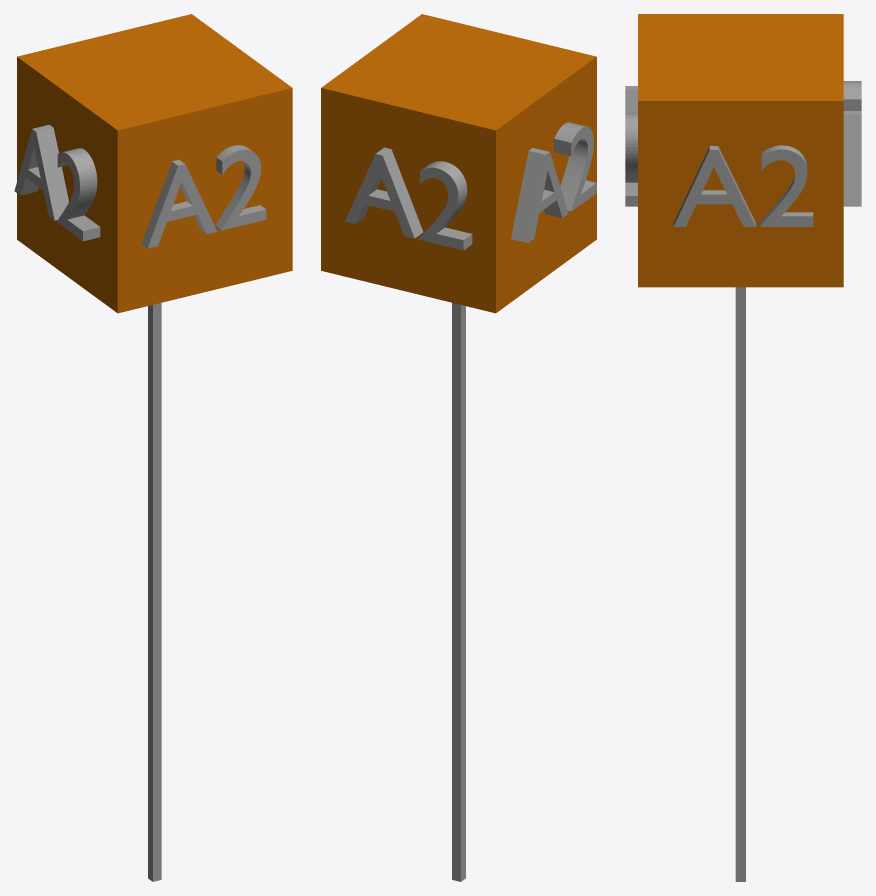
The model's file is boarding-a2.obj.
3 views of the same model, side by side, from view 1: azimuth 30°, elevation 25°; view 2: azimuth 150°, elevation 25°; view 3: azimuth 270°, elevation 25° (orthographic).
Bounding box in the file's own units: 2.3 × 8.82 × 2.3.
